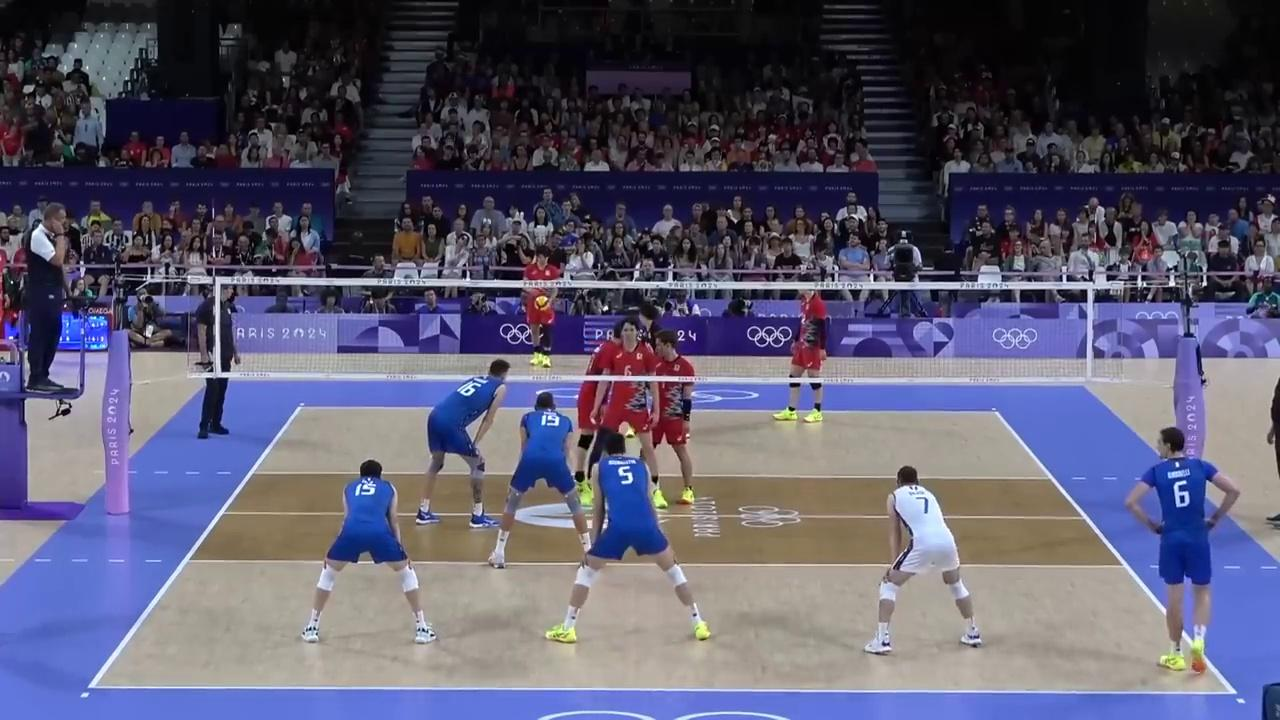ball: (536, 295, 548, 311)
